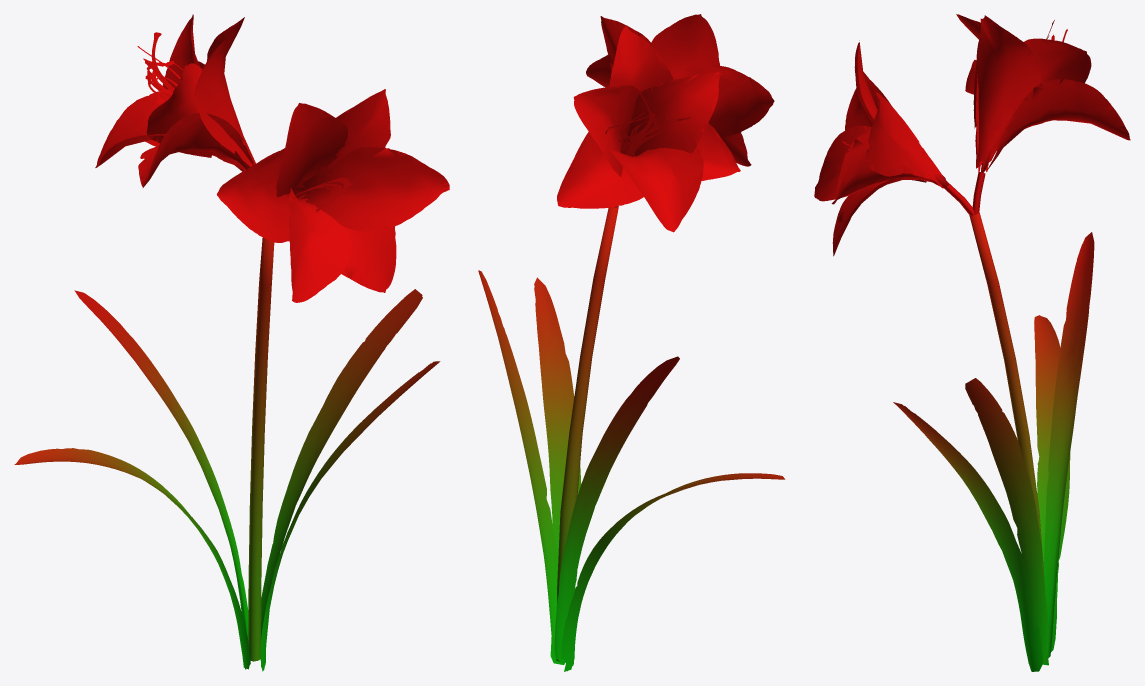
Rendered from SM_Amaryllis_01.FBX.
3 views of the same model, side by side, from view 1: azimuth 30°, elevation 25°; view 2: azimuth 150°, elevation 25°; view 3: azimuth 270°, elevation 25° (orthographic). The views are drawn at different scales.
Parts seen in each view (by area): view 1: SM_Amaryllis_01; view 2: SM_Amaryllis_01; view 3: SM_Amaryllis_01.
Boxes of the visible parts, bbox=[...] form: SM_Amaryllis_01: bbox=[14, 14, 449, 671]; SM_Amaryllis_01: bbox=[478, 14, 785, 671]; SM_Amaryllis_01: bbox=[814, 14, 1130, 671].
Size of the model in its own units: 49.17 by 39.1 by 86.84.
